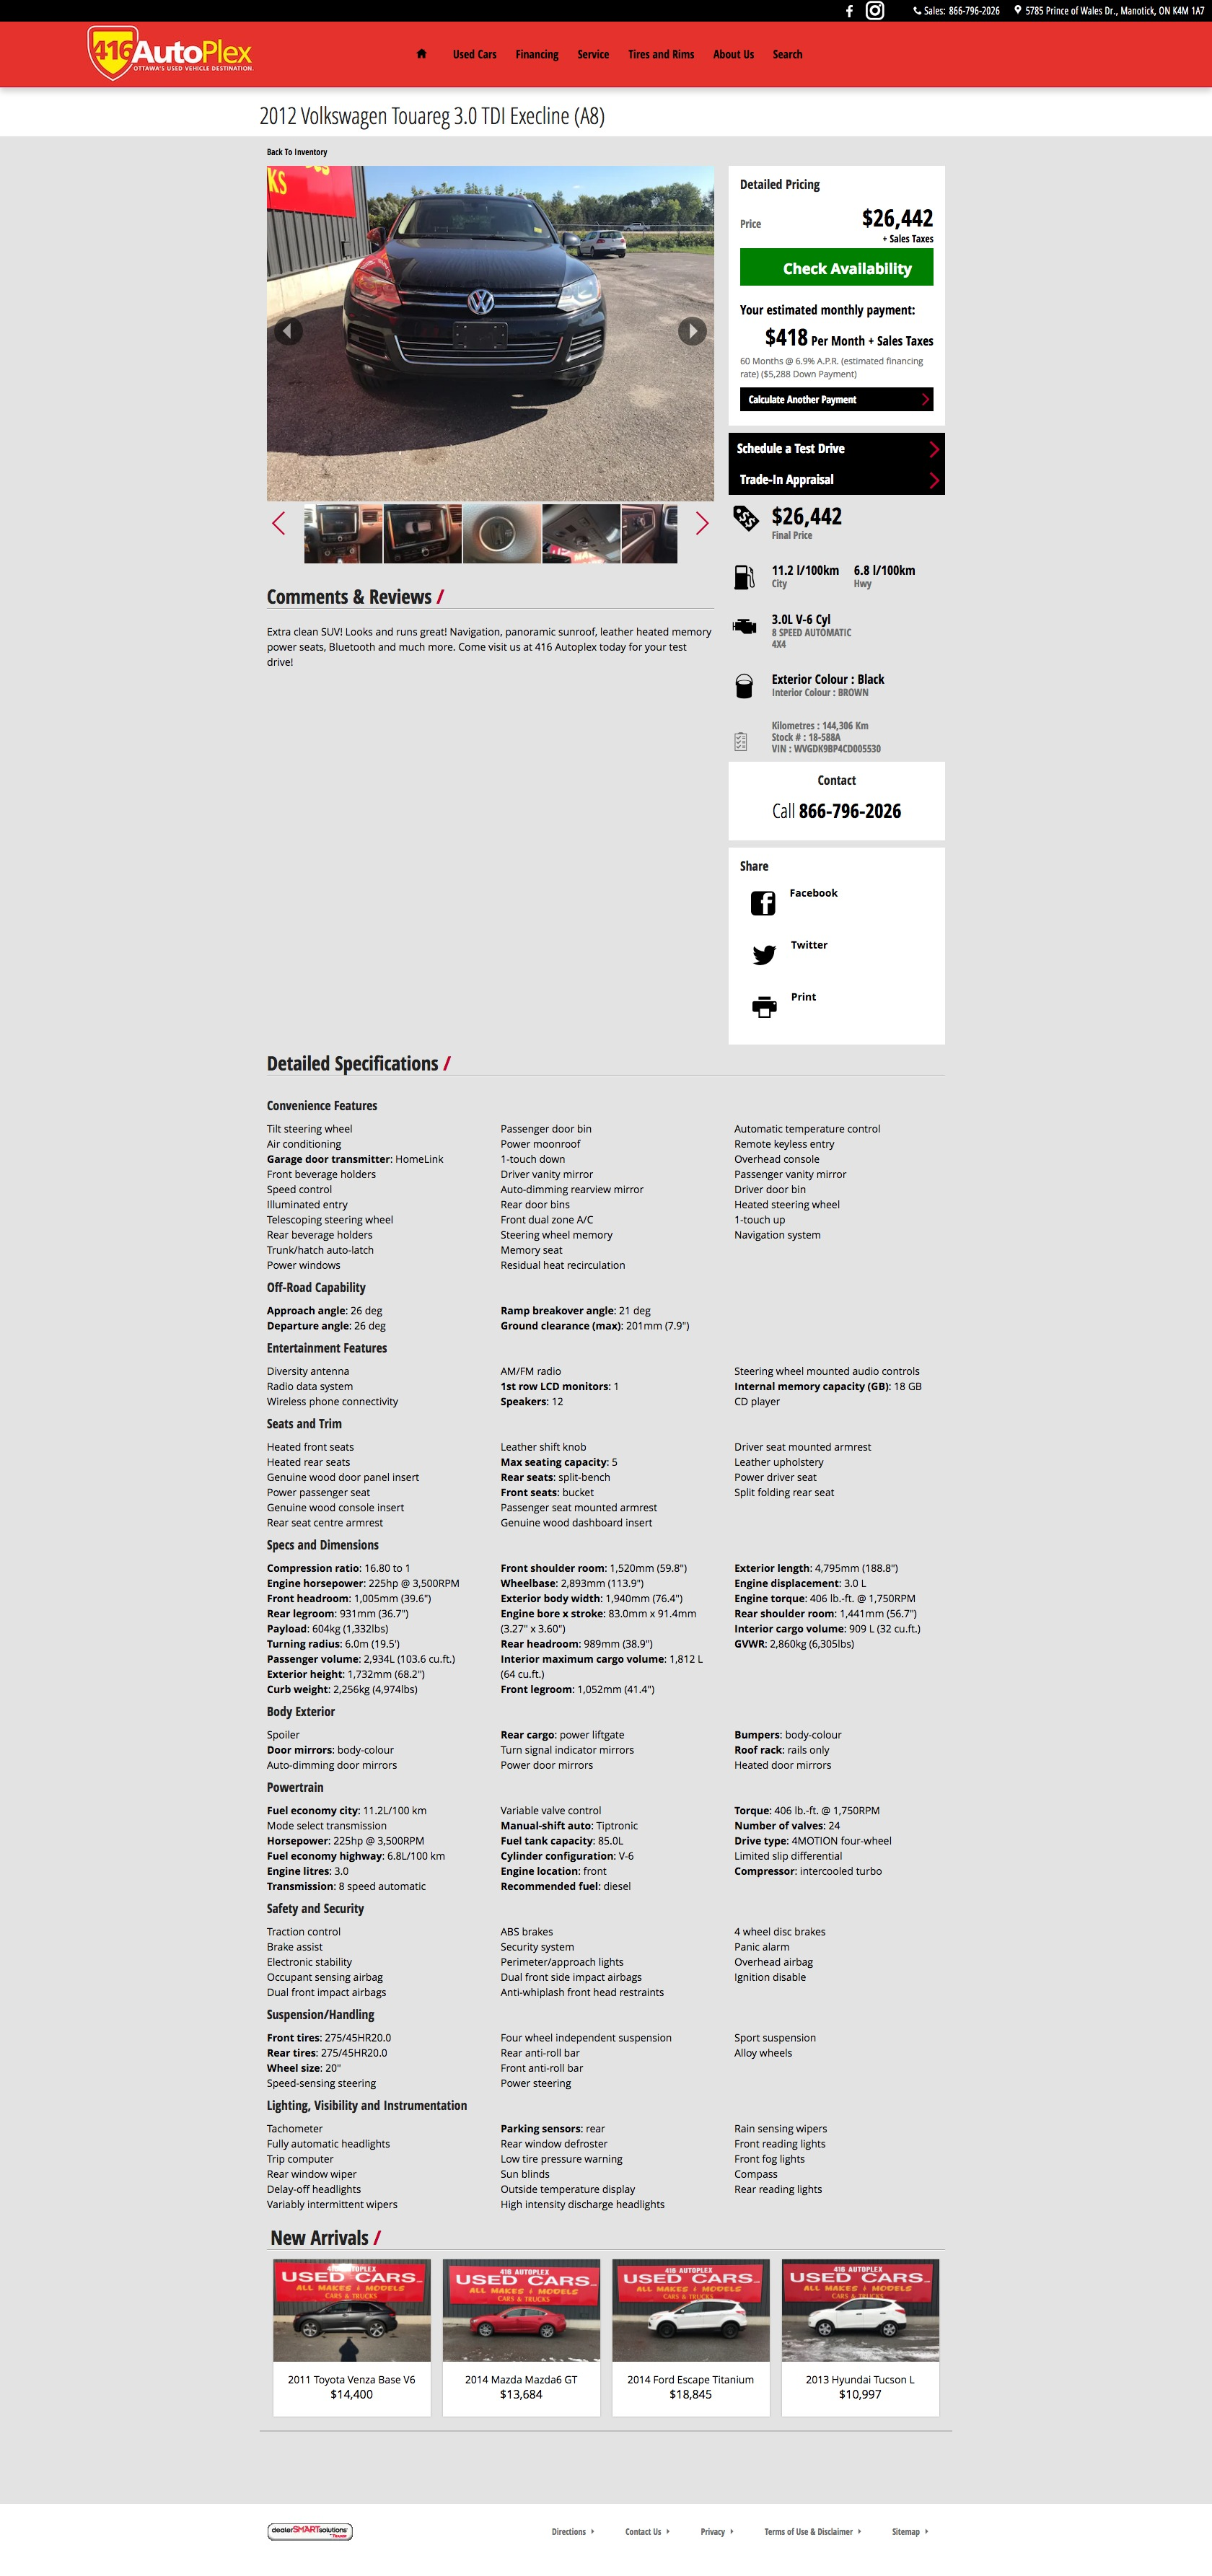car: (691, 509, 714, 539)
